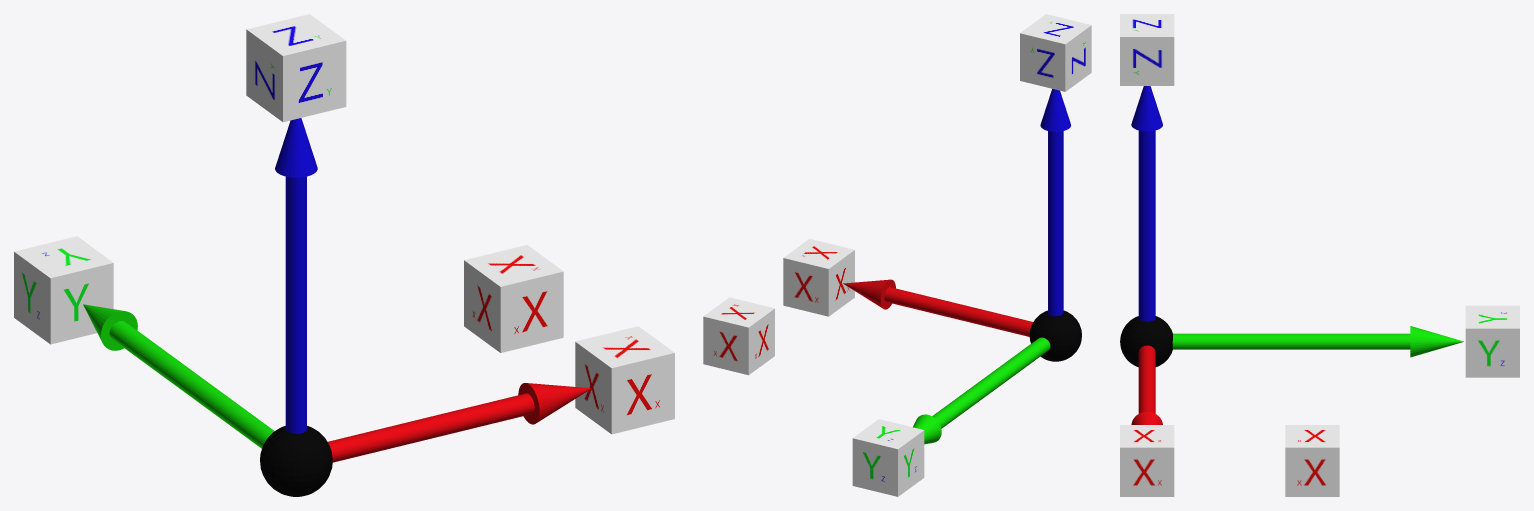
The model's file is DebugAxis.glb.
3 views of the same model, side by side, from view 1: azimuth 30°, elevation 25°; view 2: azimuth 150°, elevation 25°; view 3: azimuth 270°, elevation 25° (orthographic). The views are drawn at different scales.
Parts seen in each view (by area): view 1: cubeZ, cubeX.002, cubeX, cubeY, z, x, y, center; view 2: cubeY, cubeX.002, cubeZ, cubeX, z, x, y, center; view 3: y, z, cubeY, cubeX, cubeX.002, cubeZ, center, x.
Part boxes in pixels (x1=…): cubeZ: x1=246, y1=14, x2=346, y2=122; cubeX.002: x1=464, y1=245, x2=563, y2=352; cubeX: x1=575, y1=326, x2=674, y2=434; cubeY: x1=14, y1=236, x2=113, y2=344; z: x1=275, y1=118, x2=317, y2=433; x: x1=328, y1=383, x2=591, y2=462; y: x1=83, y1=304, x2=274, y2=448; center: x1=260, y1=426, x2=332, y2=496; cubeY: x1=852, y1=419, x2=924, y2=496; cubeX.002: x1=703, y1=297, x2=774, y2=375; cubeZ: x1=1020, y1=14, x2=1091, y2=91; cubeX: x1=783, y1=238, x2=854, y2=316; z: x1=1040, y1=89, x2=1070, y2=316; x: x1=843, y1=279, x2=1033, y2=336; y: x1=913, y1=337, x2=1050, y2=444; center: x1=1029, y1=310, x2=1081, y2=361; y: x1=1172, y1=326, x2=1463, y2=357; z: x1=1131, y1=86, x2=1162, y2=321; cubeY: x1=1465, y1=305, x2=1519, y2=377; cubeX: x1=1120, y1=425, x2=1174, y2=496; cubeX.002: x1=1285, y1=425, x2=1339, y2=496; cubeZ: x1=1120, y1=14, x2=1174, y2=85; center: x1=1120, y1=316, x2=1172, y2=367; x: x1=1131, y1=345, x2=1162, y2=424.
Bounding box in the file's own units: 0.062 × 0.0693 × 0.0737.
7 materials, 3 textured.
